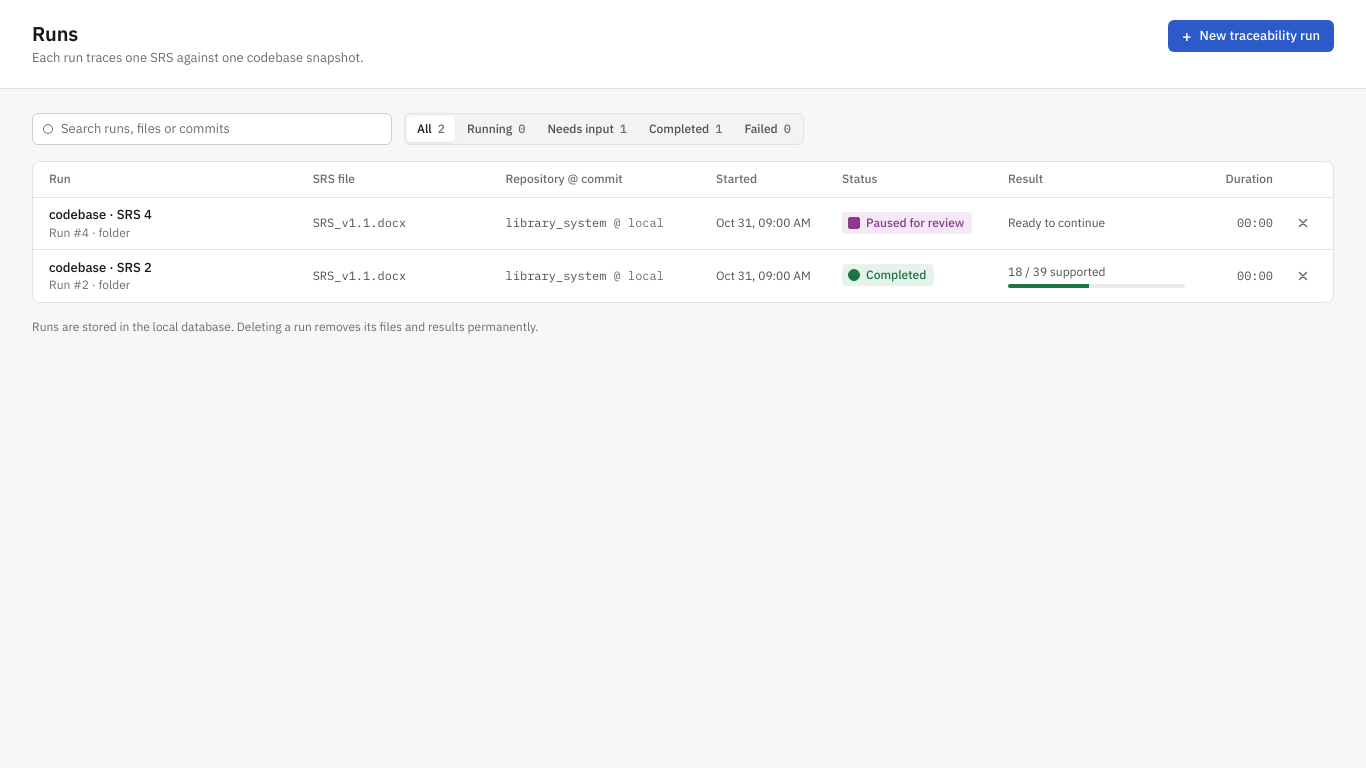
Test: delete run modal › asks in a themed dialog; Keep run does nothing, Delete run deletes
Click the button named "Delete run 4" at coordinates (1303, 223), box x1=1289 y1=209 x2=1317 y2=237
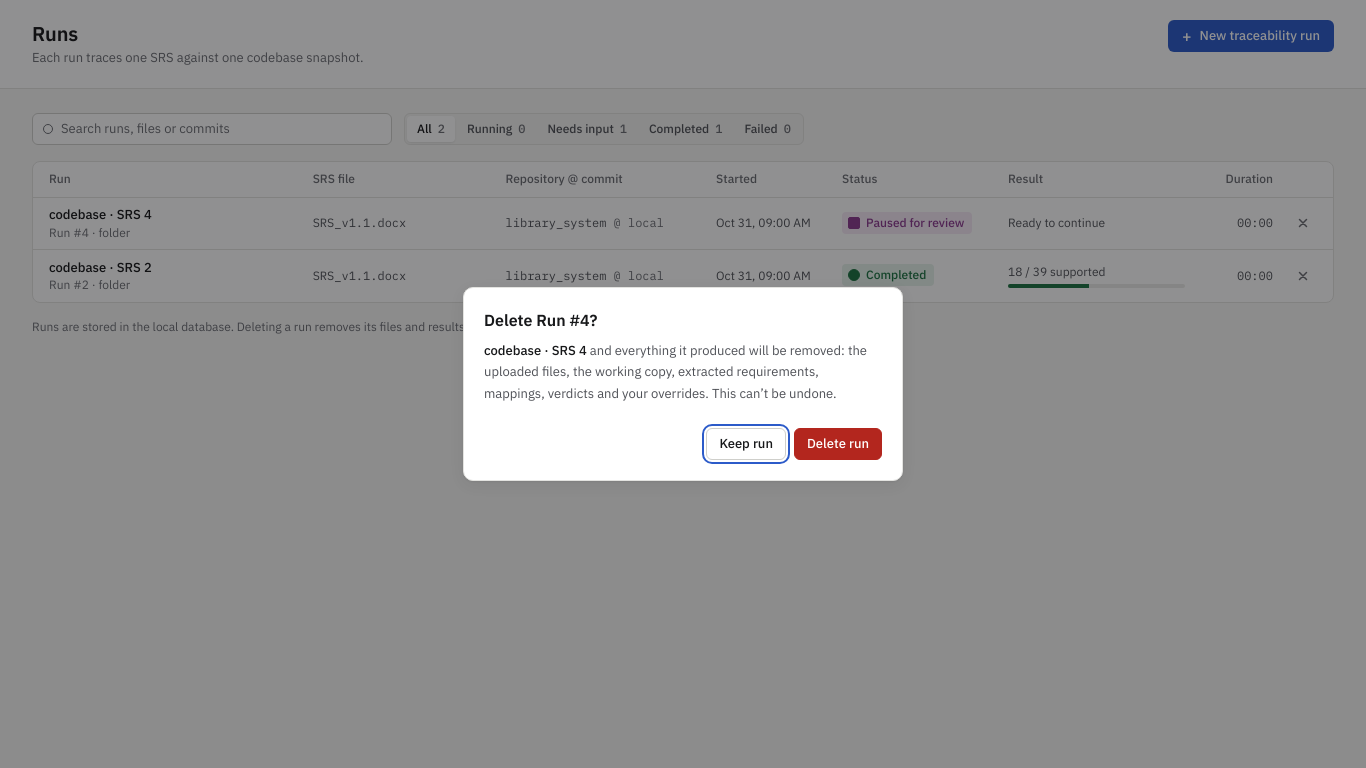
Expected: the dialog "Delete Run #4?" is shown, x1=463 y1=287 x2=903 y2=481
Click the button "Keep run" at coordinates (746, 444), box x1=706 y1=428 x2=786 y2=460
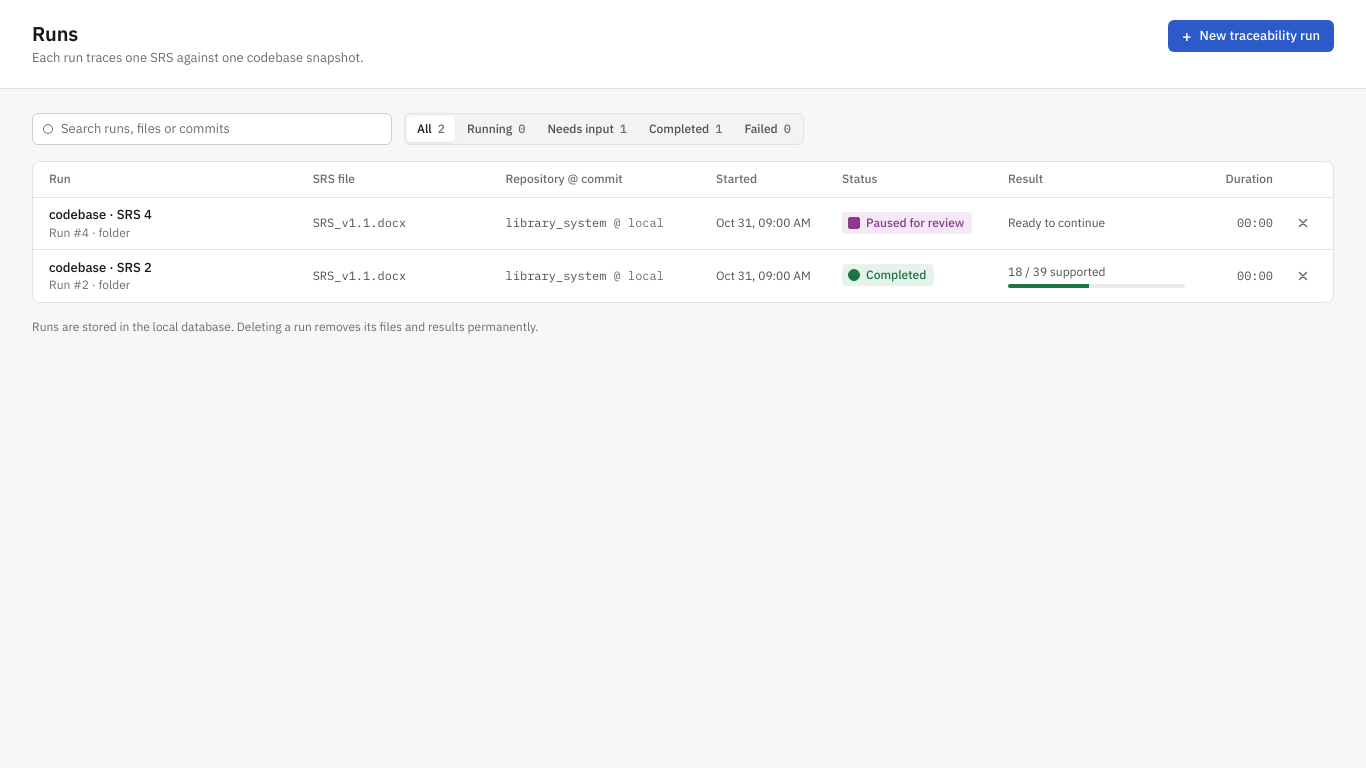
Expected: the dialog is gone
Click the button named "Delete run 4" at coordinates (1303, 223), box x1=1289 y1=209 x2=1317 y2=237
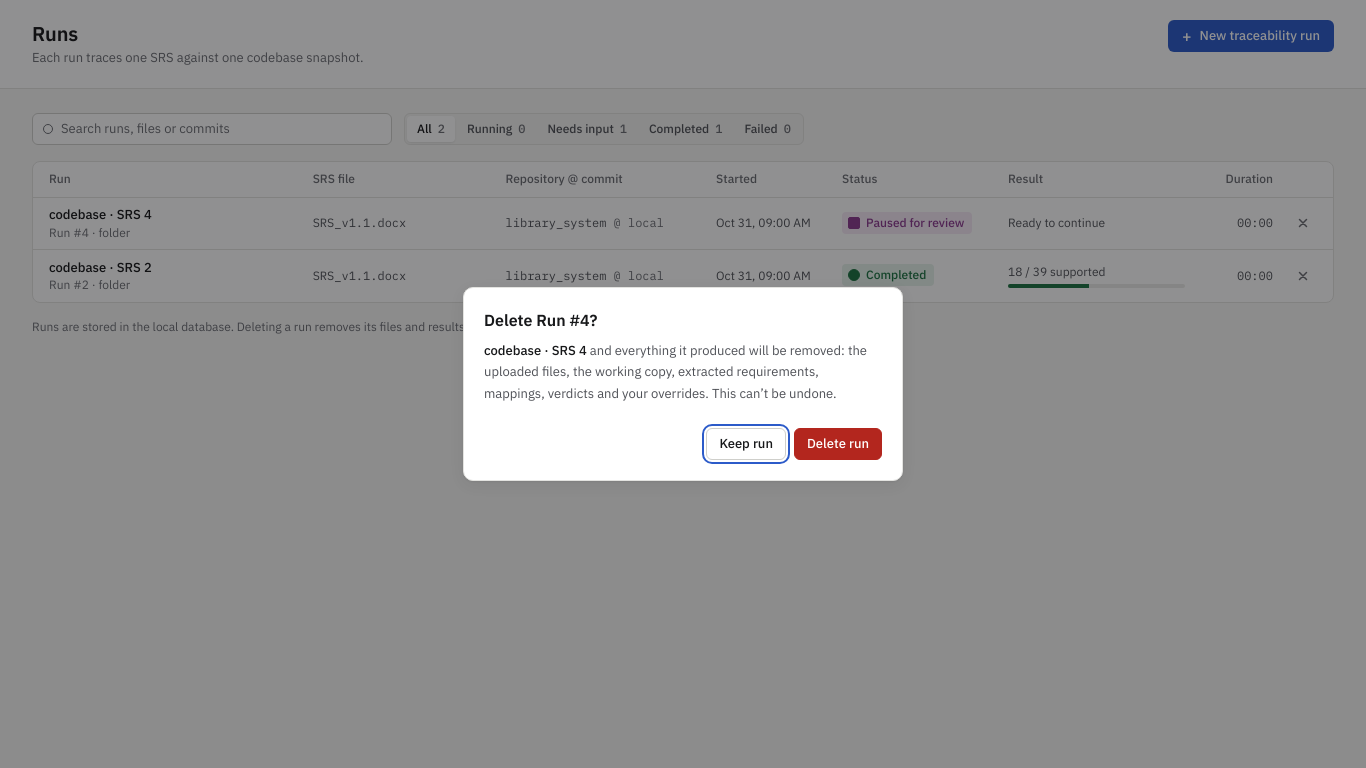
Click the button "Delete run" at coordinates (838, 444), box x1=794 y1=428 x2=882 y2=460
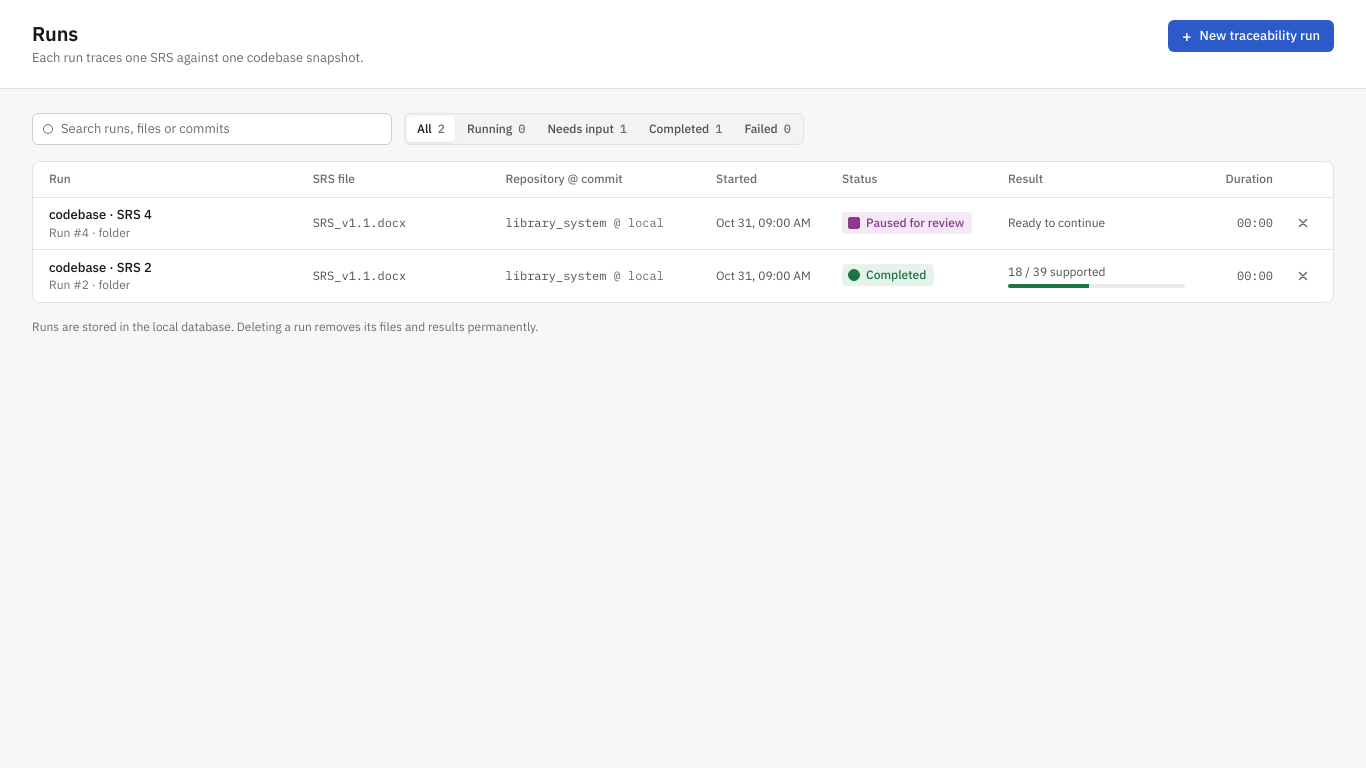
Expected: the dialog is gone
